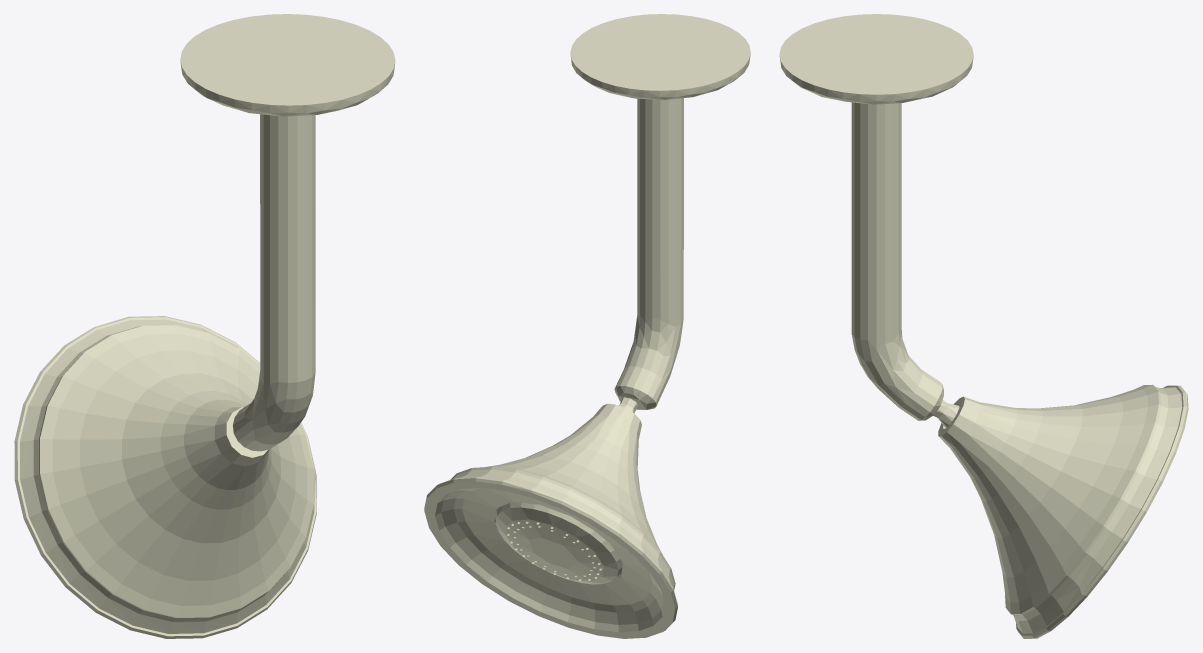
3 views of the same model, side by side, from view 1: azimuth 30°, elevation 25°; view 2: azimuth 150°, elevation 25°; view 3: azimuth 270°, elevation 25° (orthographic). The views are drawn at different scales.
Parts seen in each view (by area): view 1: k symbol trade multifunction showerhead with arm and flange; view 2: k symbol trade multifunction showerhead with arm and flange; view 3: k symbol trade multifunction showerhead with arm and flange.
Boxes of the visible parts, box(x1,y1,x2,y2) form: k symbol trade multifunction showerhead with arm and flange: box(14, 14, 395, 638); k symbol trade multifunction showerhead with arm and flange: box(424, 14, 750, 638); k symbol trade multifunction showerhead with arm and flange: box(779, 14, 1188, 638).
Bounding box in the file's own units: 6.02 × 12.68 × 8.3.
